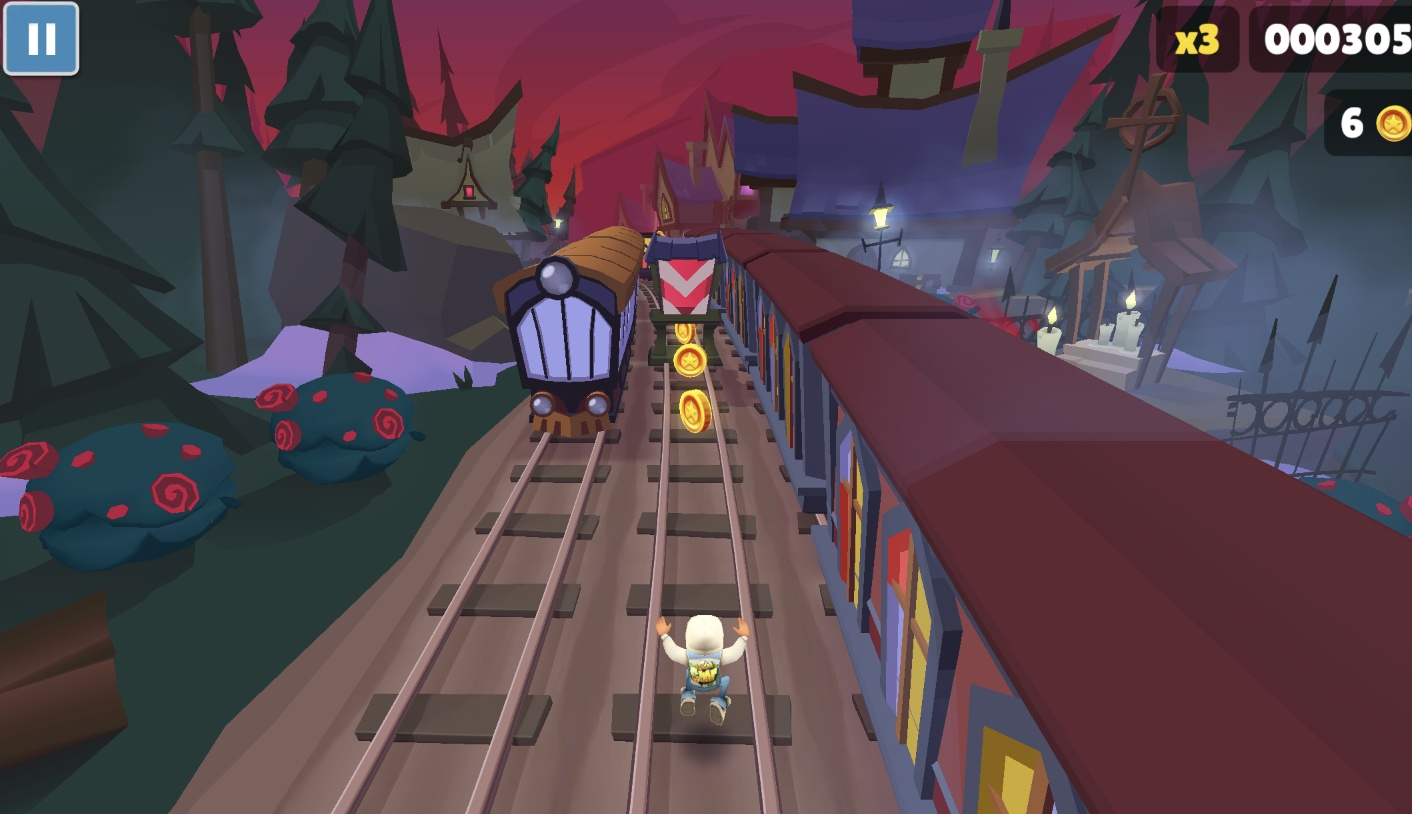overhead_barrier: (643, 231, 730, 365)
train: (708, 228, 1412, 814), (492, 225, 650, 440), (640, 232, 664, 281)
